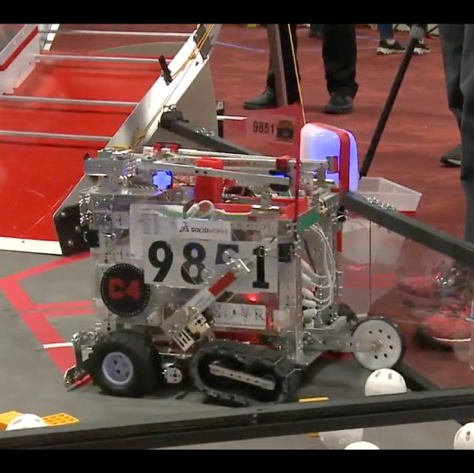robot: (52, 139, 411, 411)
